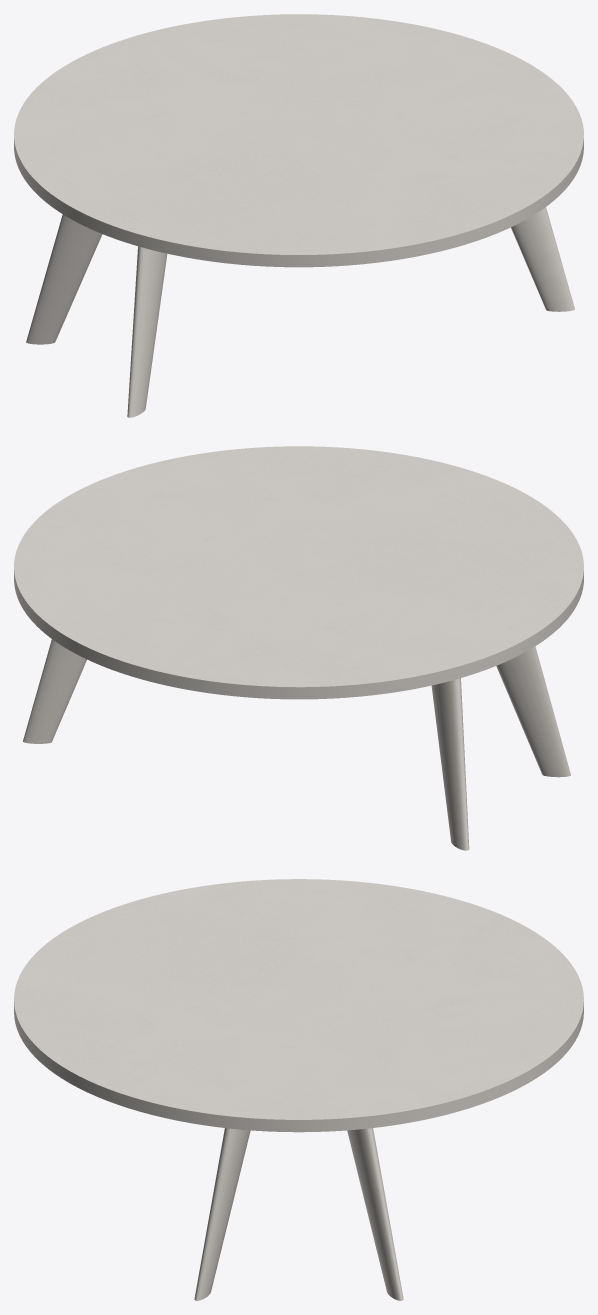
Rendered from pearlwhite_round_standard_ferdinantwalnut.glb.
3 renders of one model, top to bottom at view 1: azimuth 30°, elevation 25°; view 2: azimuth 150°, elevation 25°; view 3: azimuth 270°, elevation 25°, orthographic.
Visible parts, largest first — view 1: standard_round, ferdinandwalnut; view 2: standard_round, ferdinandwalnut; view 3: standard_round, ferdinandwalnut.
Part boxes in pixels (x1,y1,x2,y2): standard_round: [14, 14, 583, 267]; ferdinandwalnut: [26, 207, 574, 417]; standard_round: [14, 446, 583, 699]; ferdinandwalnut: [23, 639, 570, 850]; standard_round: [14, 879, 583, 1132]; ferdinandwalnut: [194, 1128, 403, 1300].
Size of the model in its own units: 6.75 by 2.51 by 6.75.
1 material, 1 textured.
